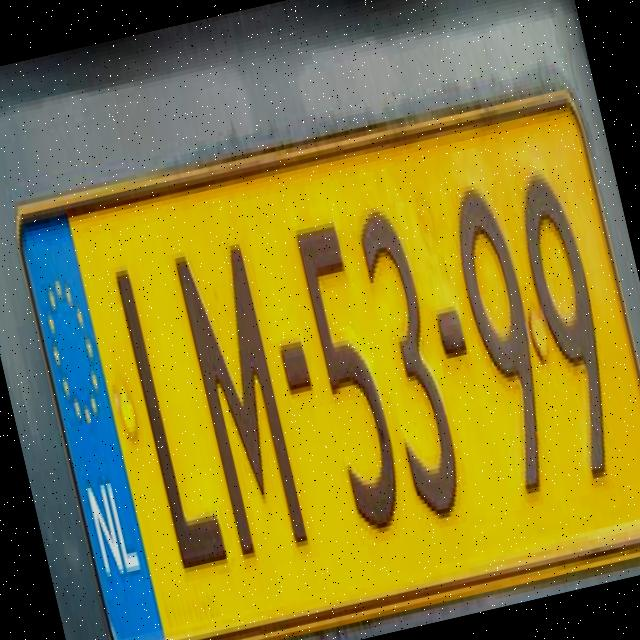EU: (16, 101, 640, 640)
Pays-Bas: (15, 216, 165, 640)
